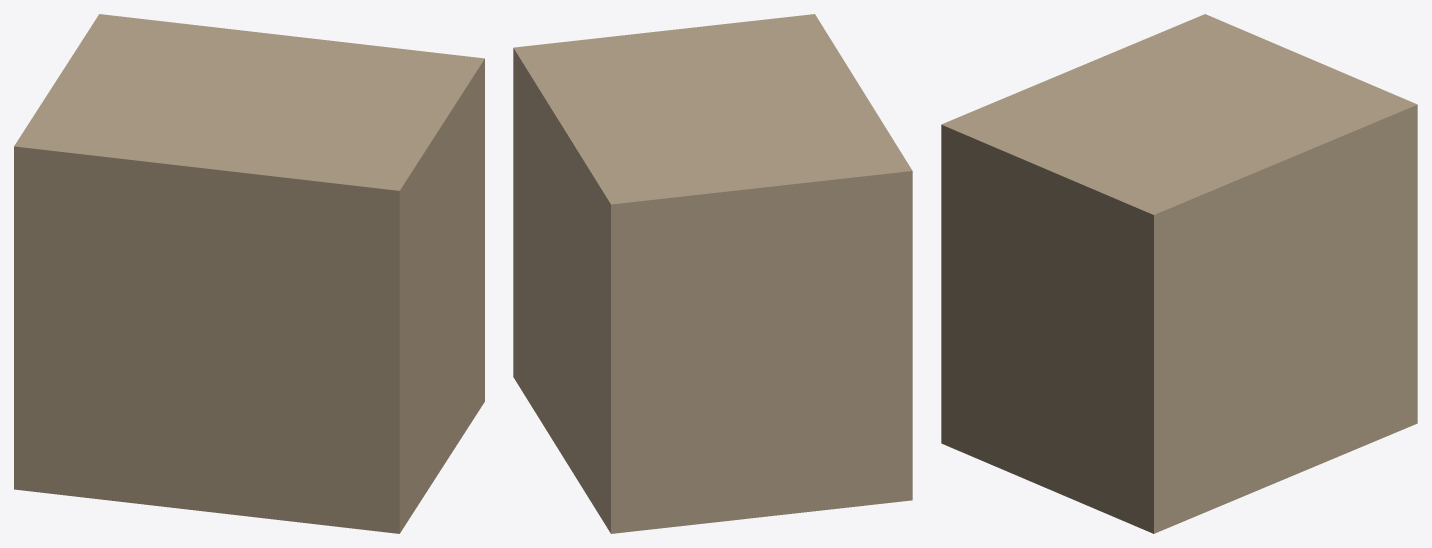
Rendered from bld_100478213.dae.
3 views of the same model, side by side, from view 1: azimuth 30°, elevation 25°; view 2: azimuth 150°, elevation 25°; view 3: azimuth 270°, elevation 25° (orthographic). The views are drawn at different scales.
Parts seen in each view (by area): view 1: bld_100478213; view 2: bld_100478213; view 3: bld_100478213.
Boxes of the visible parts, x1=… form: bld_100478213: x1=14, y1=14, x2=484, y2=533; bld_100478213: x1=513, y1=14, x2=912, y2=533; bld_100478213: x1=941, y1=14, x2=1417, y2=533.
Size of the model in its own units: 10.82 by 10.84 by 8.
